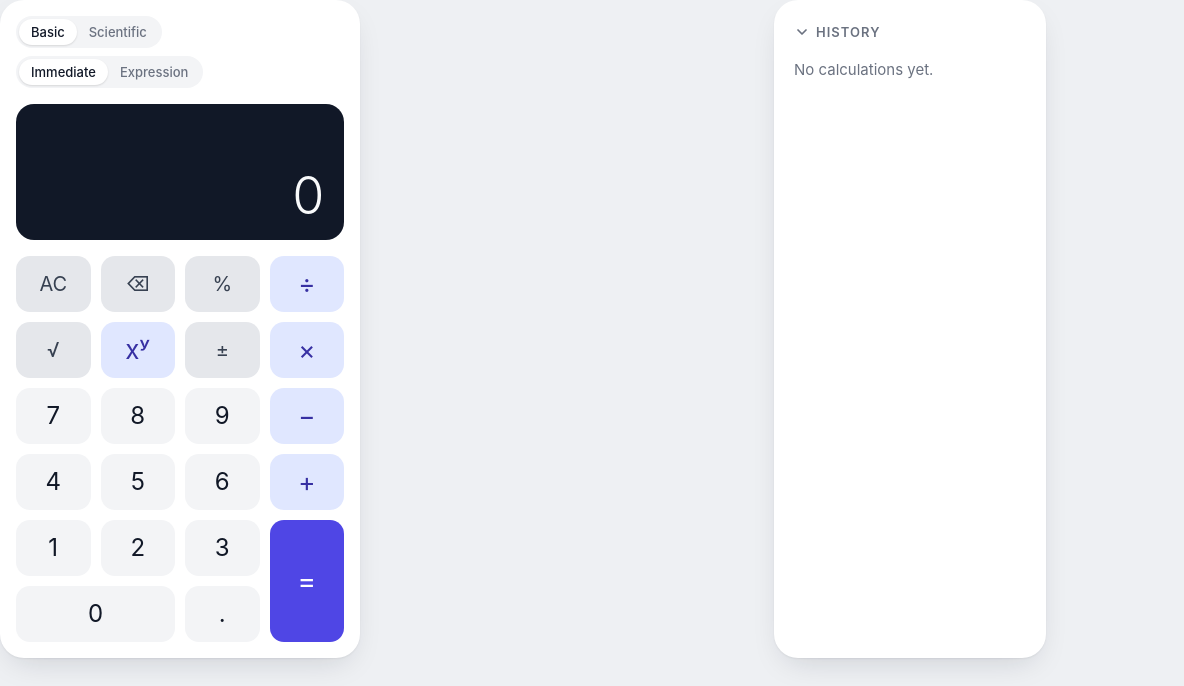
Calculator › switches the angle unit
Click the radio button labelled "Scientific" at (118, 32), box [77,19,159,45]
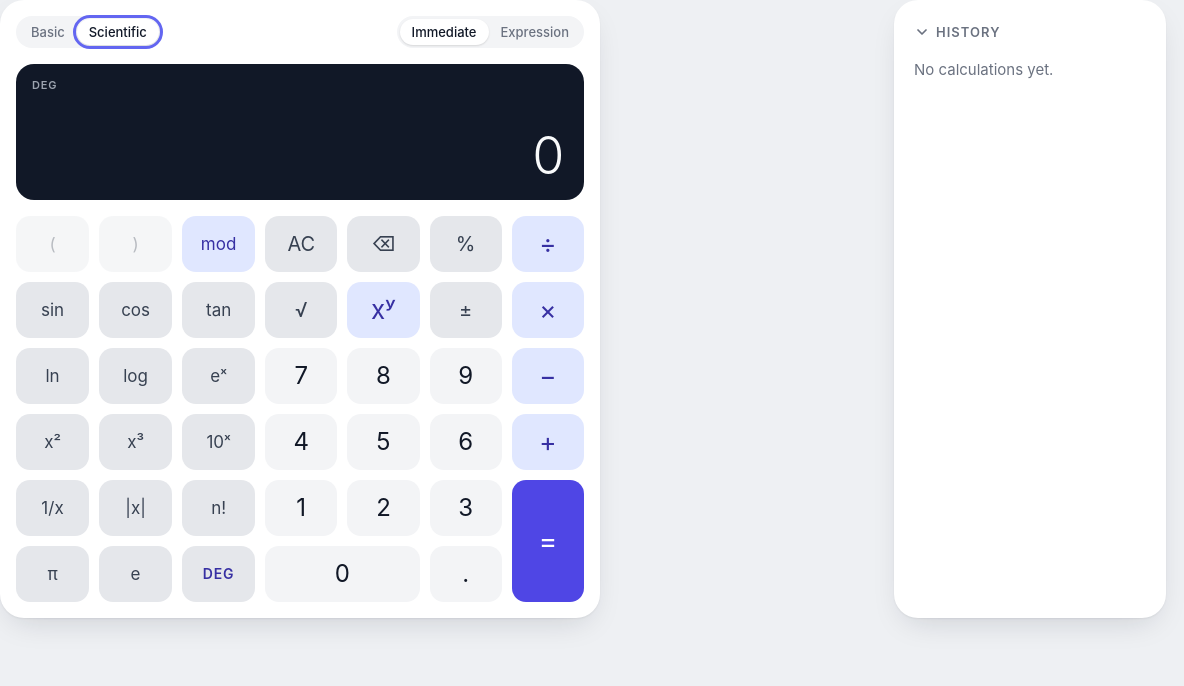
Click the button with aria-label "Angle unit: degrees" at (219, 574), box [182,546,255,602]
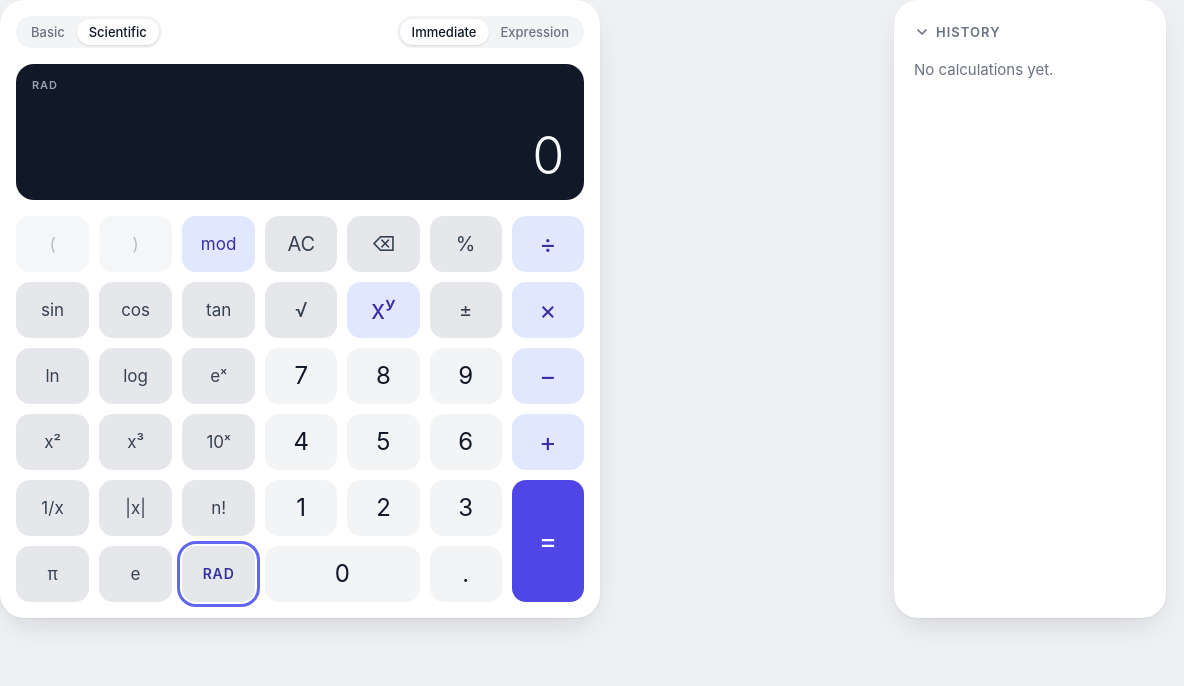
Check: the text "RAD" is shown, box [32,78,58,92]
Click the button "0" at (342, 574), box [265,546,420,602]
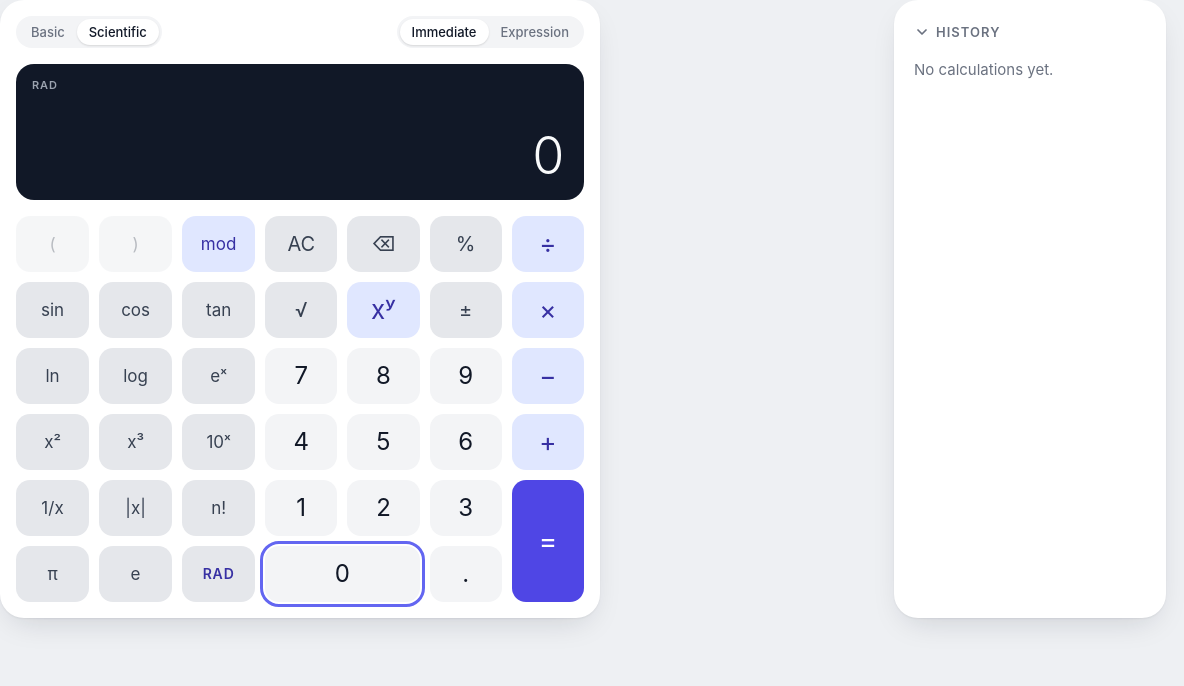
Click the button with aria-label "Cosine" at (136, 310), box [99,282,172,338]
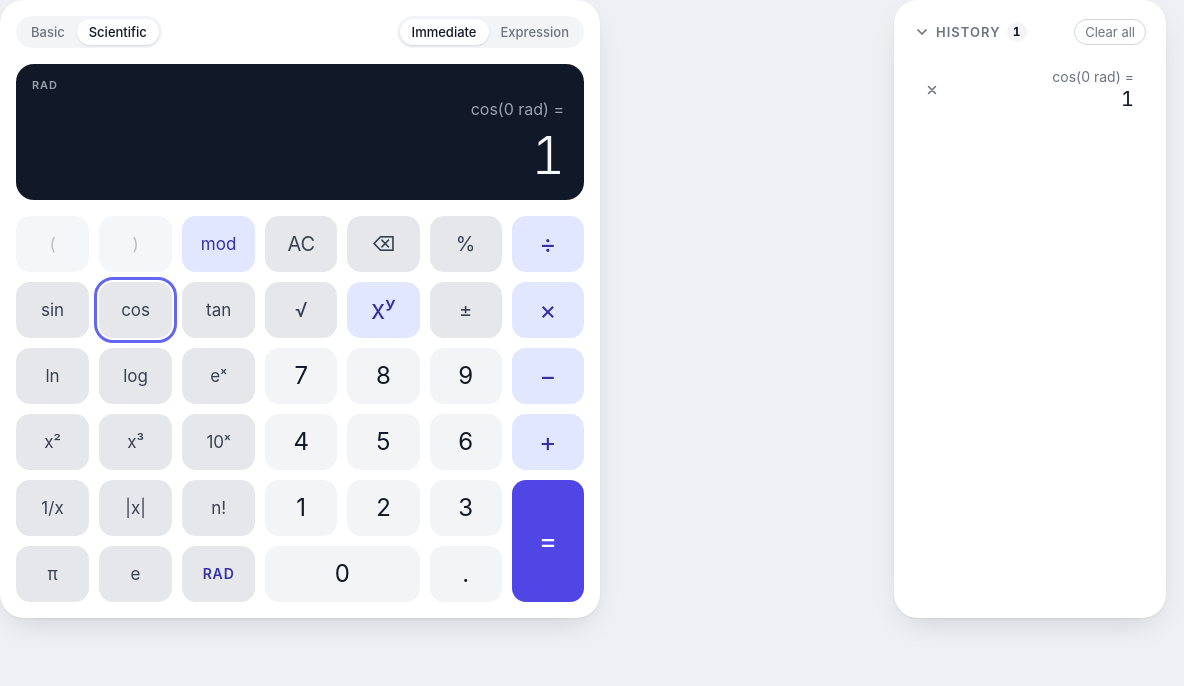
Check: the message reads "1", box [531,124,564,187]
